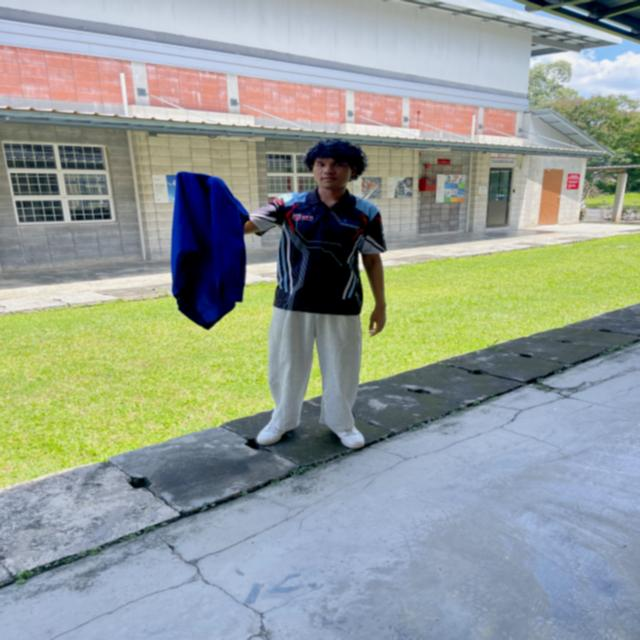person_without_labcoat: (171, 139, 386, 448)
